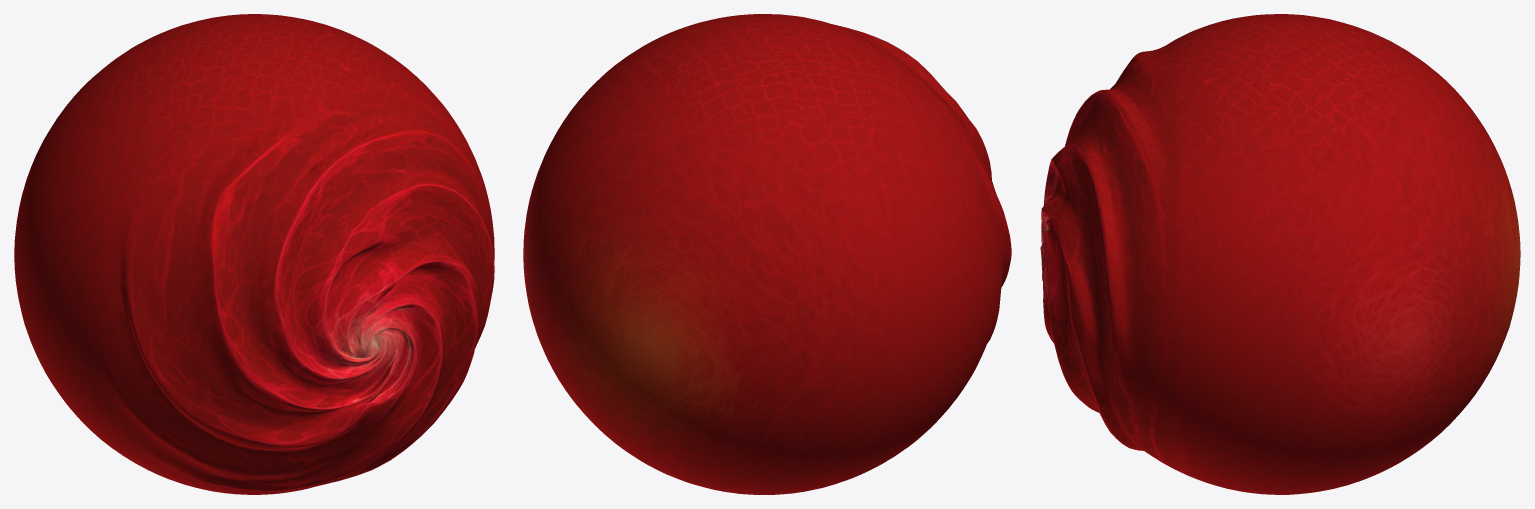
The model's file is LilithApple.glb.
3 views of the same model, side by side, from view 1: azimuth 30°, elevation 25°; view 2: azimuth 150°, elevation 25°; view 3: azimuth 270°, elevation 25° (orthographic).
Parts seen in each view (by area): view 1: Mesh_0; view 2: Mesh_0; view 3: Mesh_0.
Boxes of the visible parts, x1,y1,x2,y2 form: Mesh_0: (14,14,494,494); Mesh_0: (523,14,1011,494); Mesh_0: (1040,14,1520,494).
Size of the model in its own units: 1.9 by 1.9 by 1.9.
Materials: 1 (1 with a texture image).
